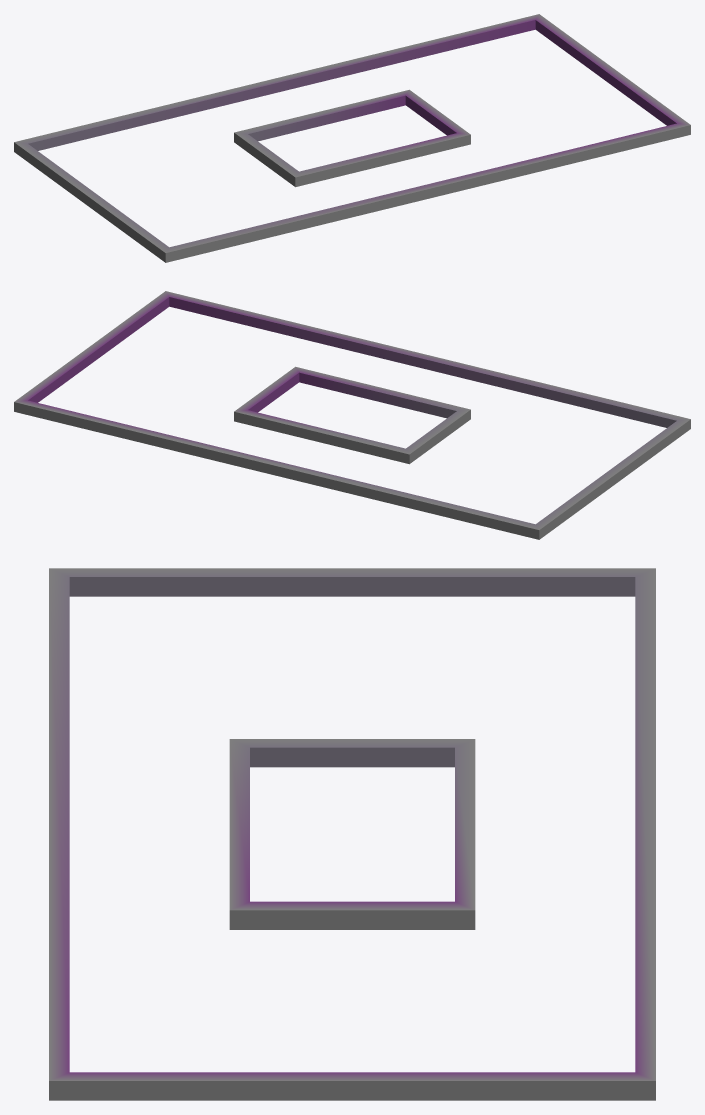
Rendered from simready-lighting_overheadLed_rectangularFrame_a01.glb.
3 renders of one model, top to bottom at view 1: azimuth 30°, elevation 25°; view 2: azimuth 150°, elevation 25°; view 3: azimuth 270°, elevation 25°, orthographic. The views are drawn at different scales.
Parts seen in each view (by area): view 1: outer_frame, inner_frame; view 2: outer_frame, inner_frame; view 3: outer_frame, inner_frame.
Boxes of the visible parts, x1,y1,x2,y2 form: outer_frame: (14,14,690,262); inner_frame: (234,89,470,187); outer_frame: (14,291,690,539); inner_frame: (234,366,470,464); outer_frame: (49,568,655,1100); inner_frame: (229,739,475,929).
Size of the model in its own units: 4.8 by 0.085 by 2.4.
